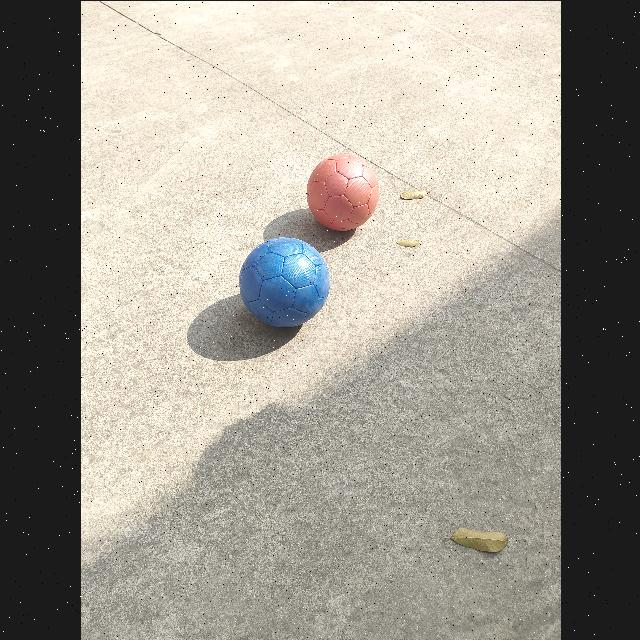B: (239, 236, 328, 326)
R: (305, 153, 378, 230)
